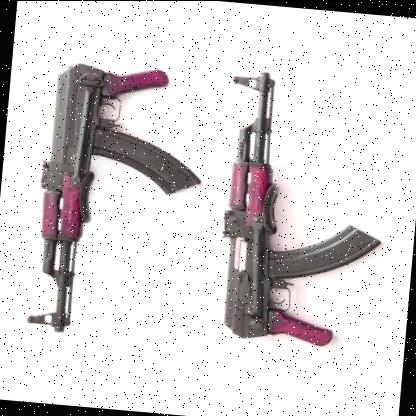rifle: (11, 47, 217, 344), (200, 67, 398, 361)
